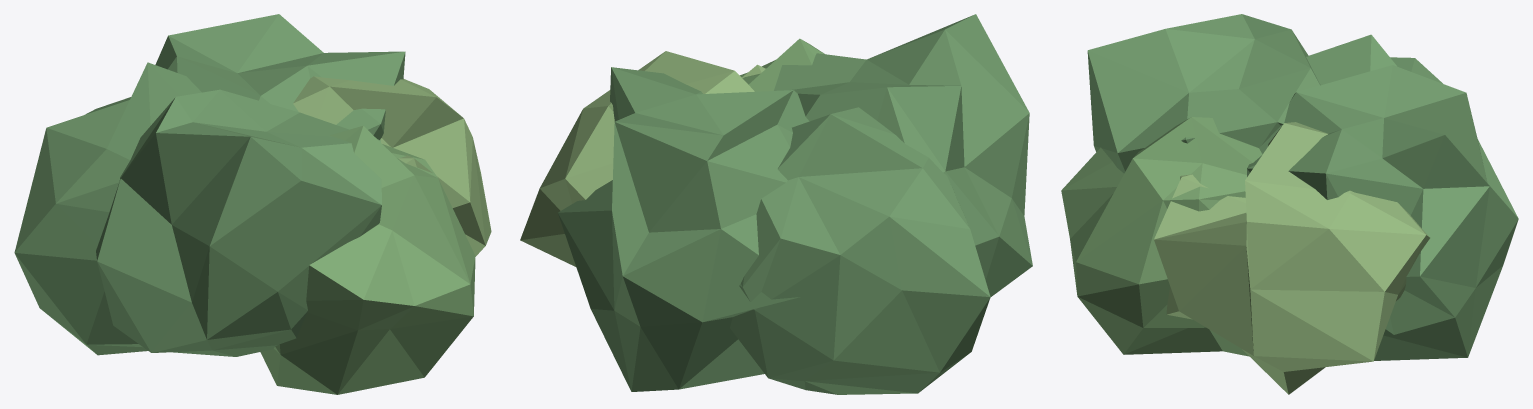
File: nature_bush_06.glb
3 views of the same model, side by side, from view 1: azimuth 30°, elevation 25°; view 2: azimuth 150°, elevation 25°; view 3: azimuth 270°, elevation 25° (orthographic). The views are drawn at different scales.
Visible parts, largest first — view 1: geometry_0; view 2: geometry_0; view 3: geometry_0.
Boxes of the visible parts, x1,y1,x2,y2 form: geometry_0: (14, 14, 491, 394); geometry_0: (520, 14, 1032, 394); geometry_0: (1061, 14, 1518, 394).
Size of the model in its own units: 2.19 by 1.39 by 2.04.
